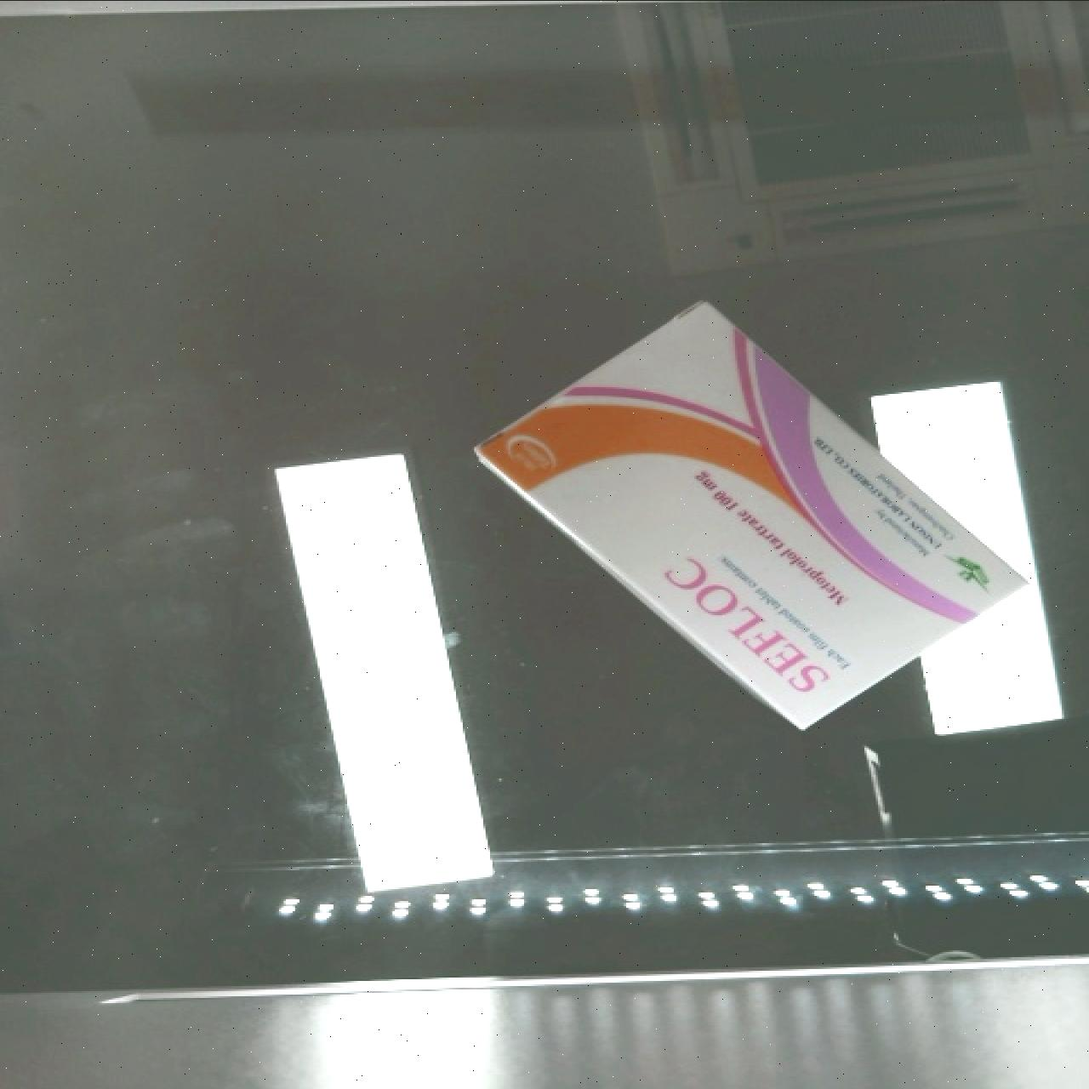medicine_label_obb: (636, 525, 853, 727)
